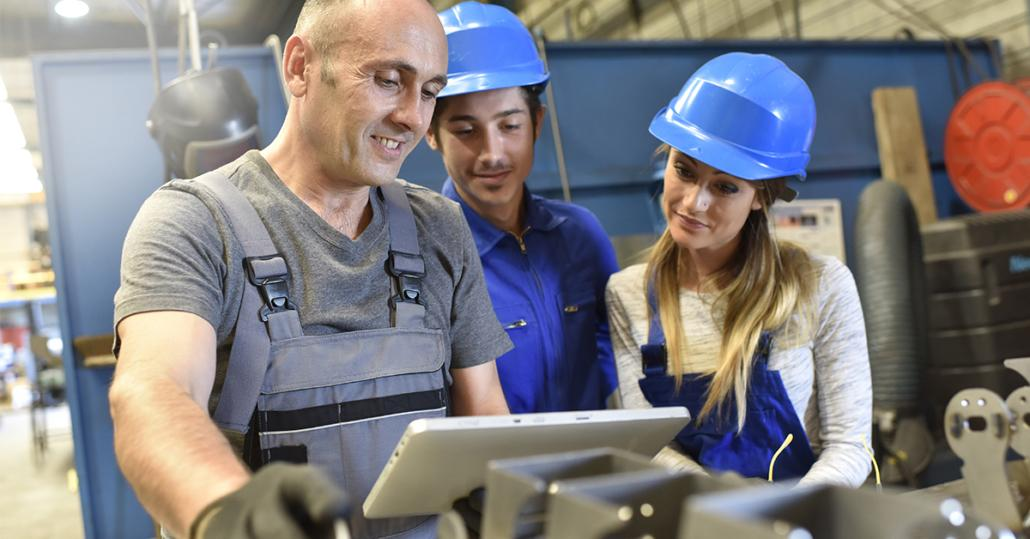helmet: (652, 54, 820, 181), (425, 1, 555, 100)
